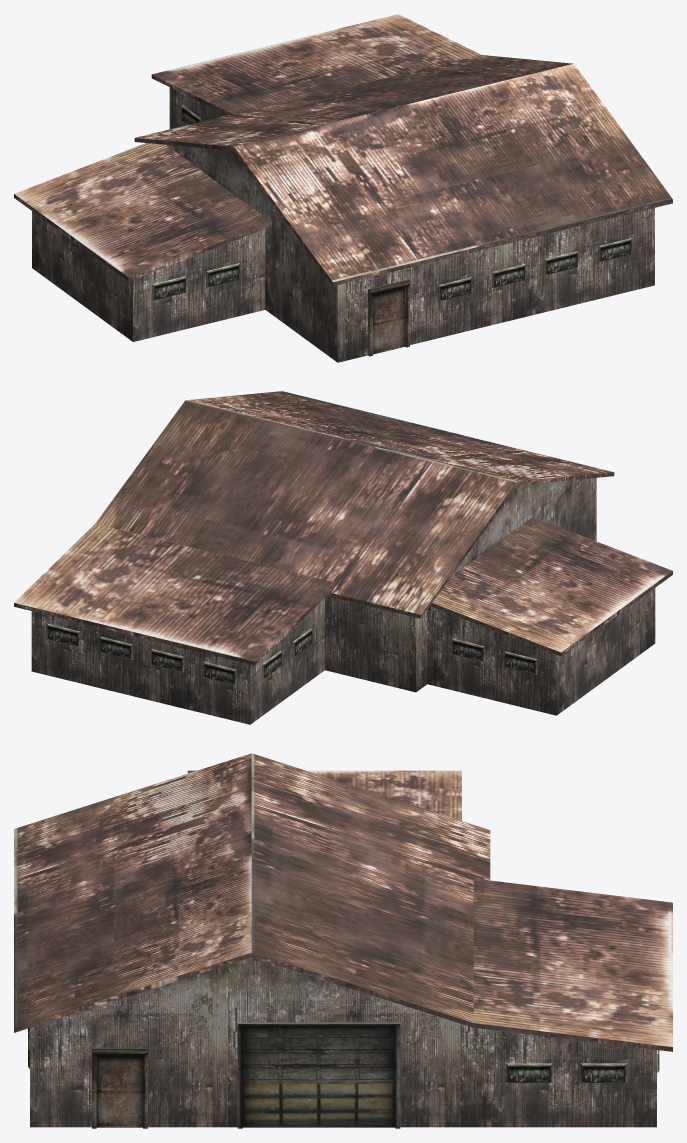
Rendered from warehs07.glb.
The picture shows the model from 3 angles, top to bottom: view 1: azimuth 30°, elevation 25°; view 2: azimuth 150°, elevation 25°; view 3: azimuth 270°, elevation 25°; orthographic projection. The views are drawn at different scales.
Parts seen in each view (by area): view 1: _warehs07; view 2: _warehs07; view 3: _warehs07.
Boxes of the visible parts, bbox=[...] form: _warehs07: bbox=[14, 14, 672, 362]; _warehs07: bbox=[14, 391, 672, 724]; _warehs07: bbox=[14, 753, 672, 1128].
Size of the model in its own units: 21.64 by 6.62 by 21.79.
Materials: 1 (1 with a texture image).
